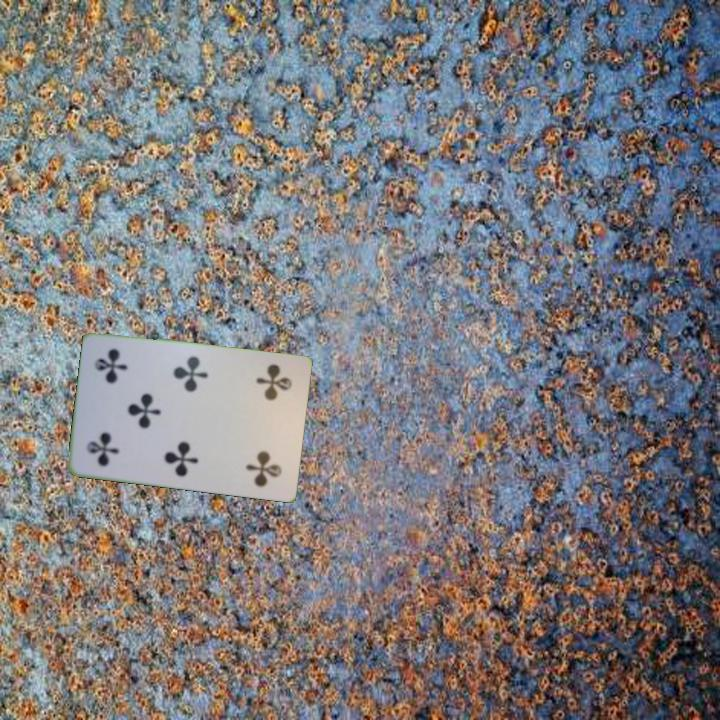c_7.png: (77, 400, 142, 473), (237, 358, 302, 431)
